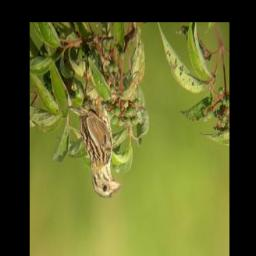Sparrow: (67, 68, 122, 202)
